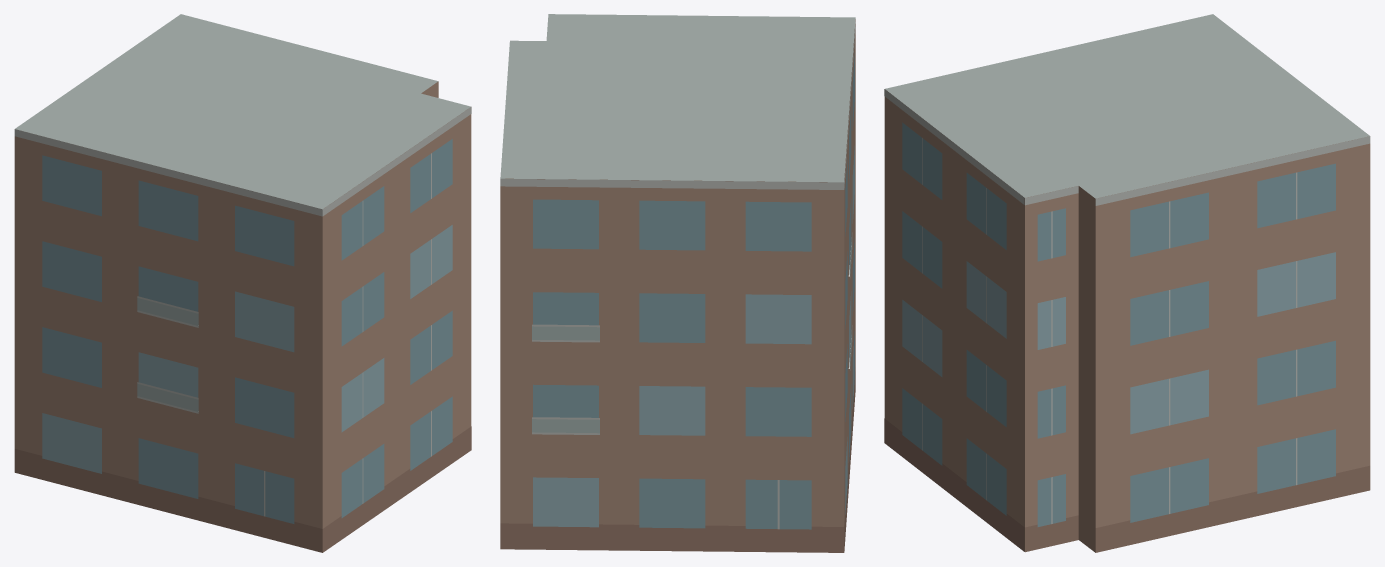
The model's file is survey-upis-32947044.glb.
The picture shows the model from 3 angles, left to right: view 1: azimuth 30°, elevation 25°; view 2: azimuth 150°, elevation 25°; view 3: azimuth 270°, elevation 25°; orthographic projection. The views are drawn at different scales.
Visible parts, largest first — view 1: survey-upis-32947044.tmp; view 2: survey-upis-32947044.tmp; view 3: survey-upis-32947044.tmp.
Boxes of the visible parts, box(x1,y1,x2,y2) form: survey-upis-32947044.tmp: box(14, 14, 471, 552); survey-upis-32947044.tmp: box(500, 14, 855, 552); survey-upis-32947044.tmp: box(884, 14, 1370, 552).
Size of the model in its own units: 12.97 by 11.6 by 14.42.
